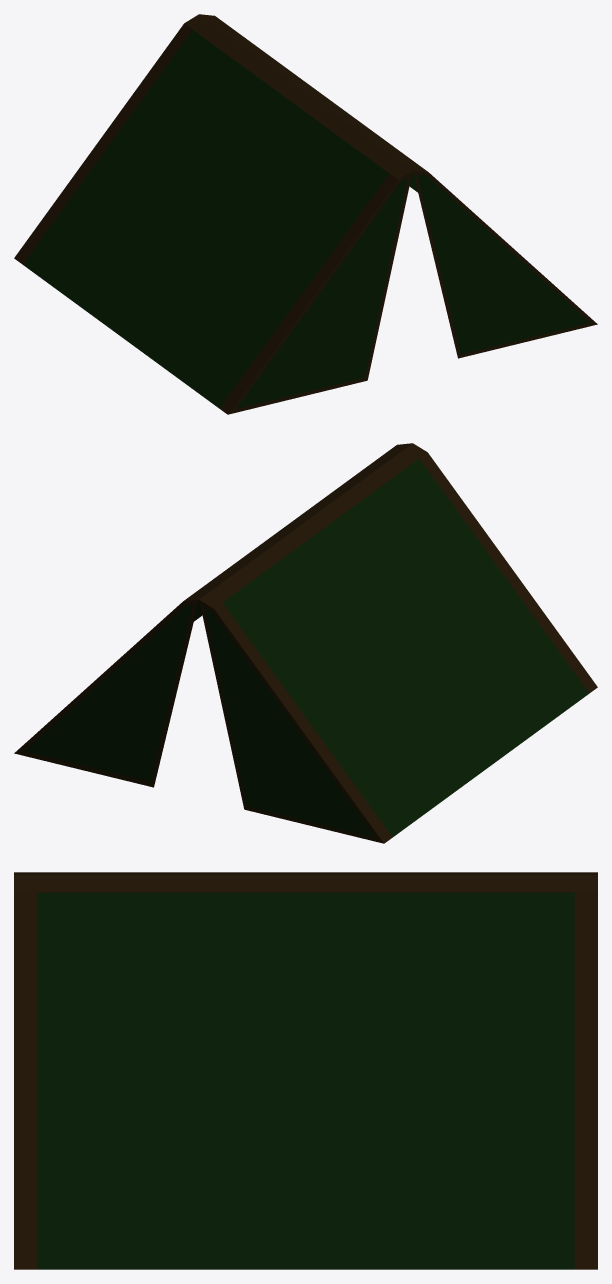
The model's file is tent.obj.
3 views of the same model, one above another, from view 1: azimuth 30°, elevation 25°; view 2: azimuth 150°, elevation 25°; view 3: azimuth 270°, elevation 25° (orthographic). The views are drawn at different scales.
Parts seen in each view (by area): view 1: tent.001; view 2: tent.001; view 3: tent.001.
Boxes of the visible parts, x1,y1,x2,y2 form: tent.001: (14,14,597,414); tent.001: (14,443,597,843); tent.001: (14,872,597,1269).
Bounding box in the file's own units: 0.906 × 0.4653 × 0.906.
